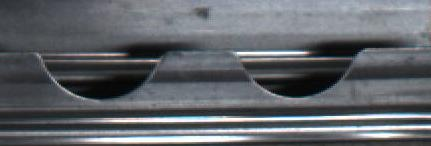twou: (37, 42, 360, 108)
